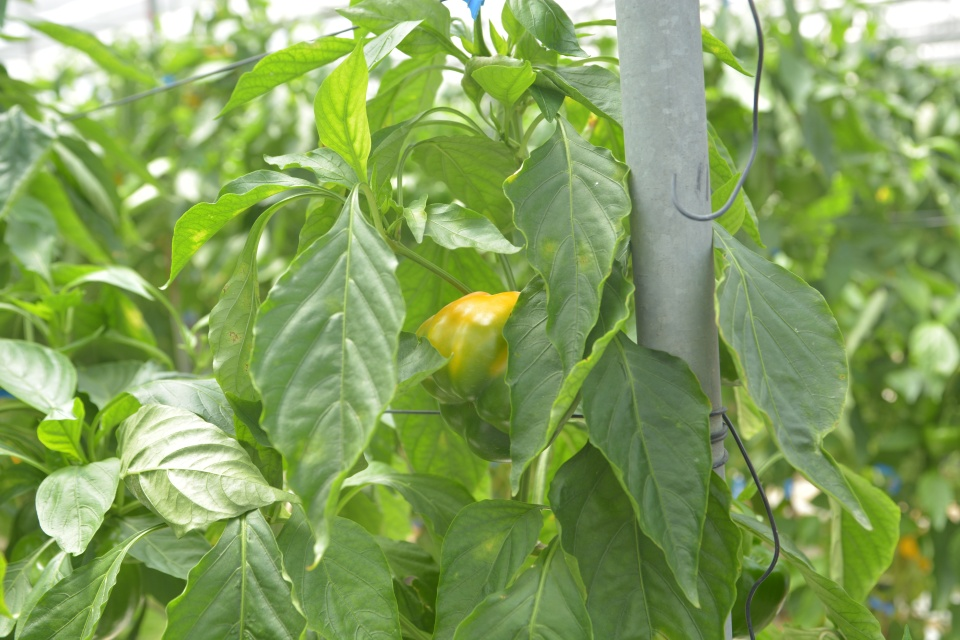fruit: (412, 286, 525, 466)
